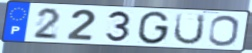2: (65, 9, 99, 43), (32, 7, 63, 41)
3: (103, 9, 134, 44)
G: (135, 10, 171, 46)
O: (207, 14, 240, 48)
U: (172, 13, 208, 46)
